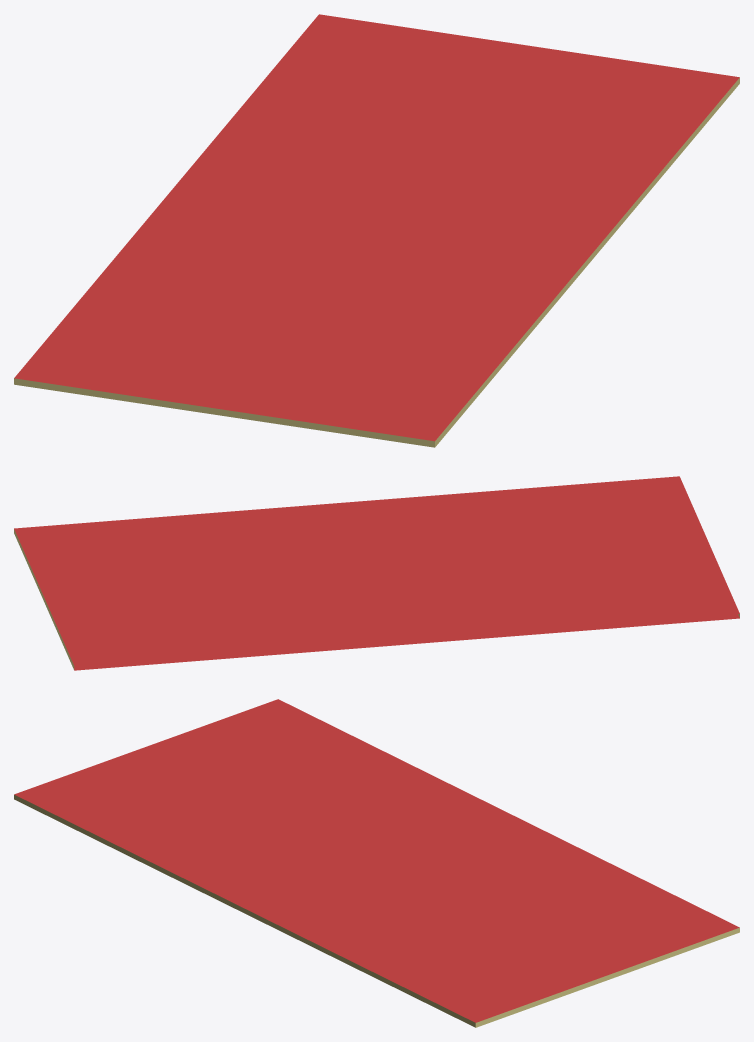
3 views of the same model, one above another, from view 1: azimuth 30°, elevation 25°; view 2: azimuth 150°, elevation 25°; view 3: azimuth 270°, elevation 25° (orthographic). The views are drawn at different scales.
Bounding box in the file's own units: 14.04 × 13.31 × 0.1.
